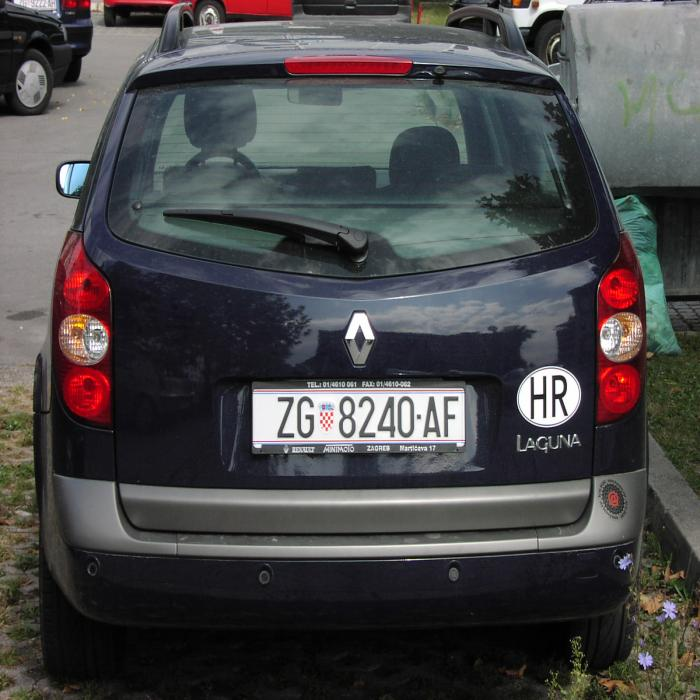number_plate: (252, 390, 467, 442)
